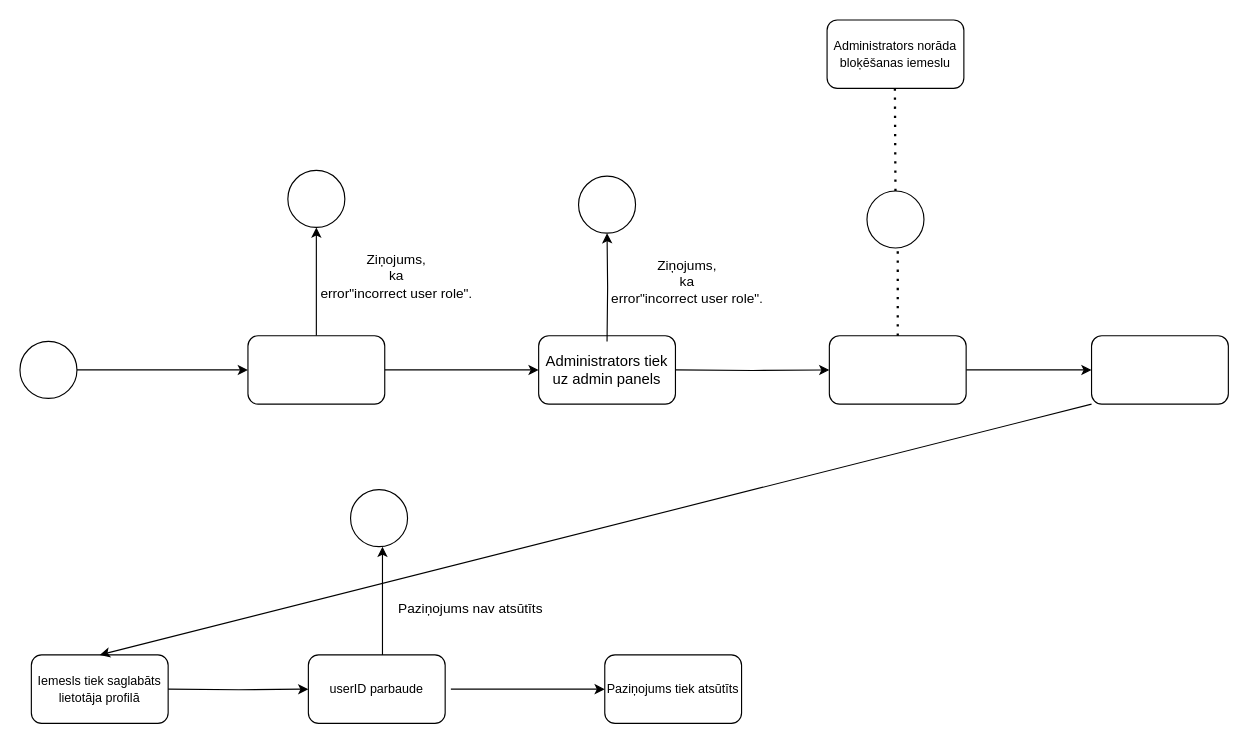
The diagram is 1248 pixels wide and 743 high, and some of its shapes have lost their labels. The shapes that lost their labels are listed below. From the top down, each one's centre as x and y in pixels, then its label:
the point at 316,369: Tiek pārbaudīts vai lietotājs ir admin
the point at 897,369: Administrators var bloķēt/atbloķēt lietotajūs
the point at 1159,369: Lietotāja status tiek mainīts uz "banned"/"active"
